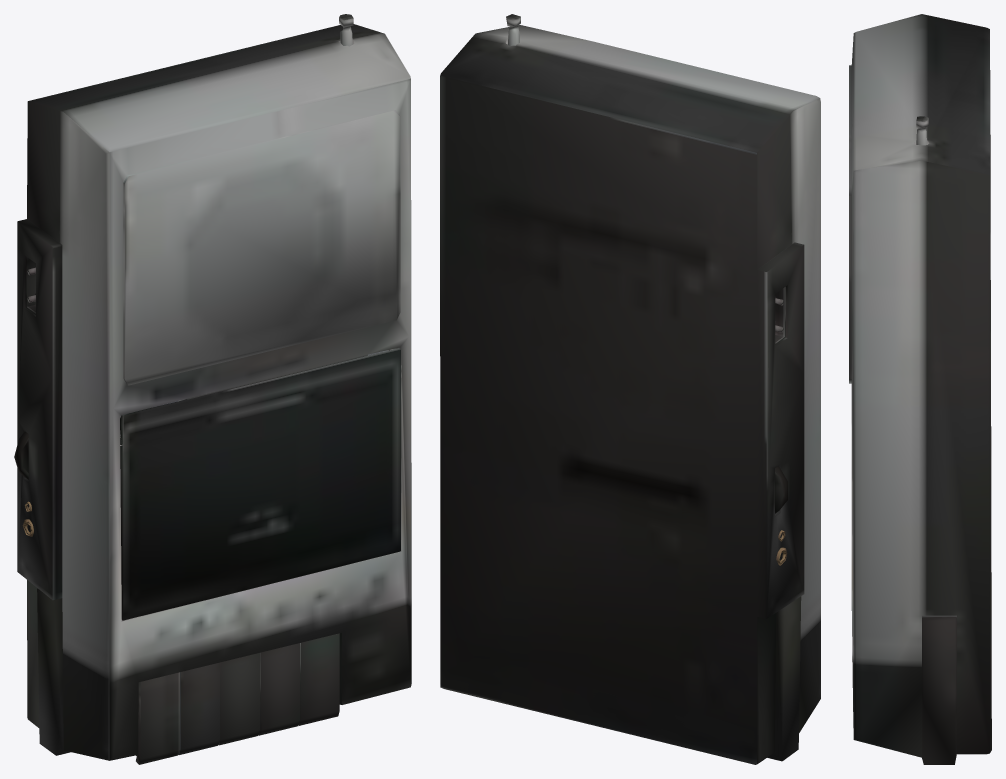
File: design-cassette-player.glb
3 views of the same model, side by side, from view 1: azimuth 30°, elevation 25°; view 2: azimuth 150°, elevation 25°; view 3: azimuth 270°, elevation 25° (orthographic). The views are drawn at different scales.
Visible parts, largest first — view 1: cassette_player_body; view 2: cassette_player_body; view 3: cassette_player_body.
Part boxes in pixels (left/top/right/bottom): cassette_player_body: left=14, top=14, right=411, bottom=764; cassette_player_body: left=440, top=14, right=820, bottom=764; cassette_player_body: left=849, top=14, right=991, bottom=764.
Size of the model in its own units: 0.1295 by 0.2363 by 0.0489.
3 materials, 3 textured.
